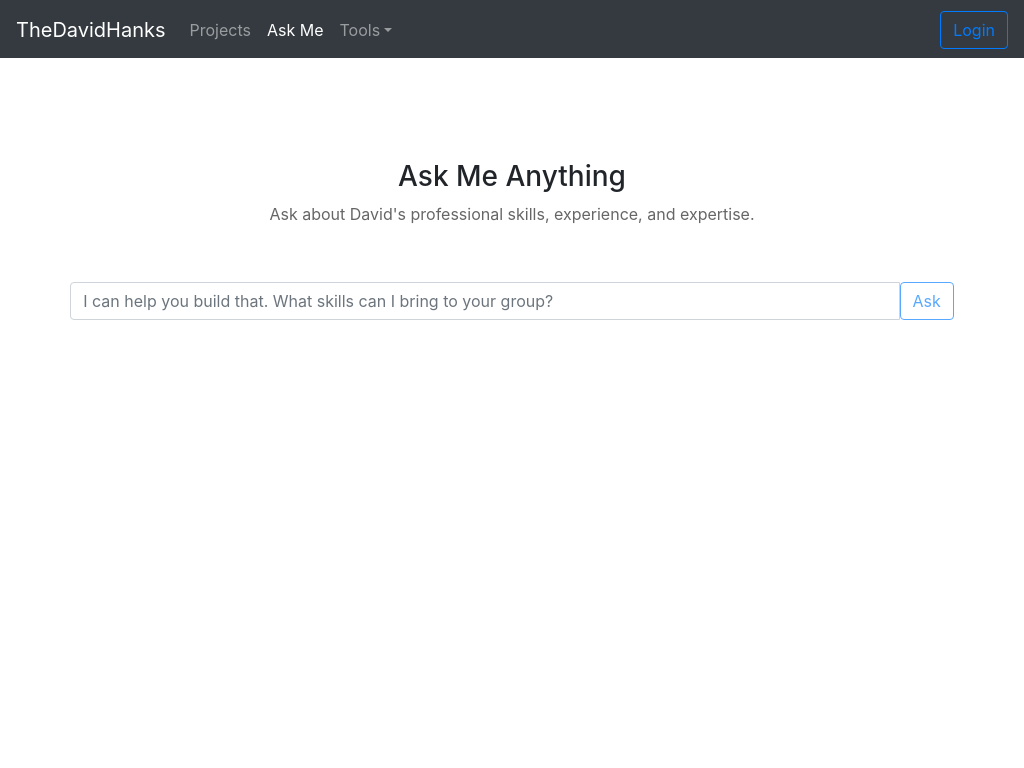
Test: /askme › posts the question and reuses the returned sessionId for follow-ups
Type "What do you build?" into the field at (485, 301), box [70, 282, 900, 320]
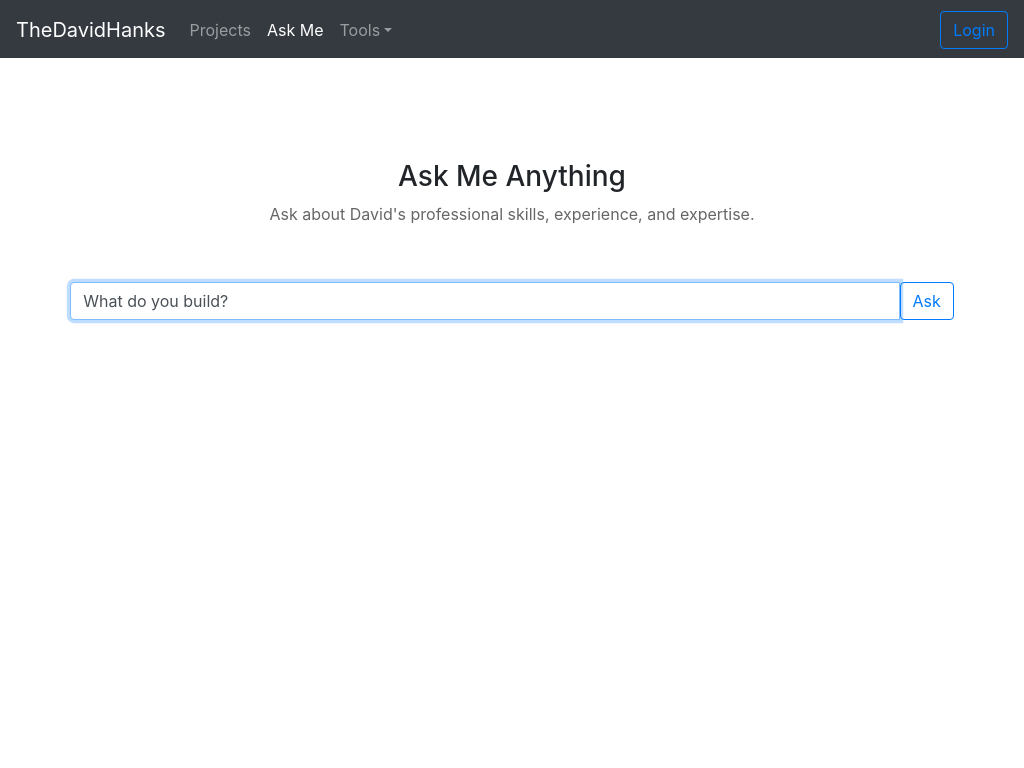
Click the button "Ask" at (927, 301), box [900, 282, 954, 320]
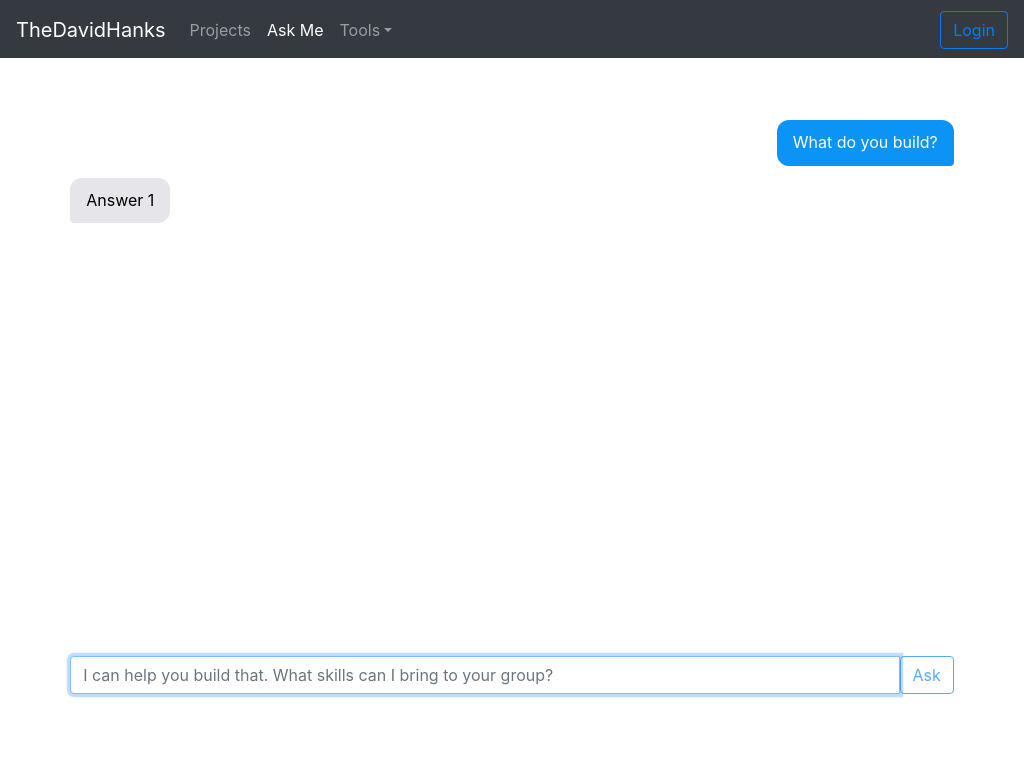
Result: the text "Answer 1" is shown at [70, 178, 170, 223]
Type "Tell me more" into the field at (485, 675), box [70, 656, 900, 694]
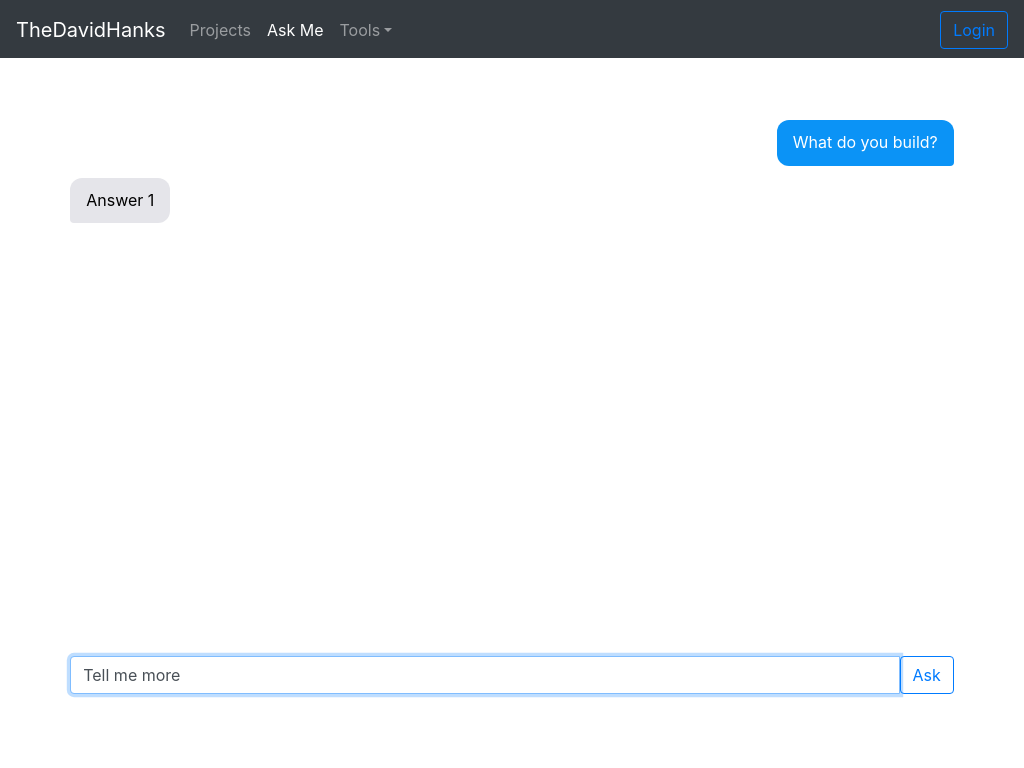
Click the button "Ask" at (927, 675), box [900, 656, 954, 694]
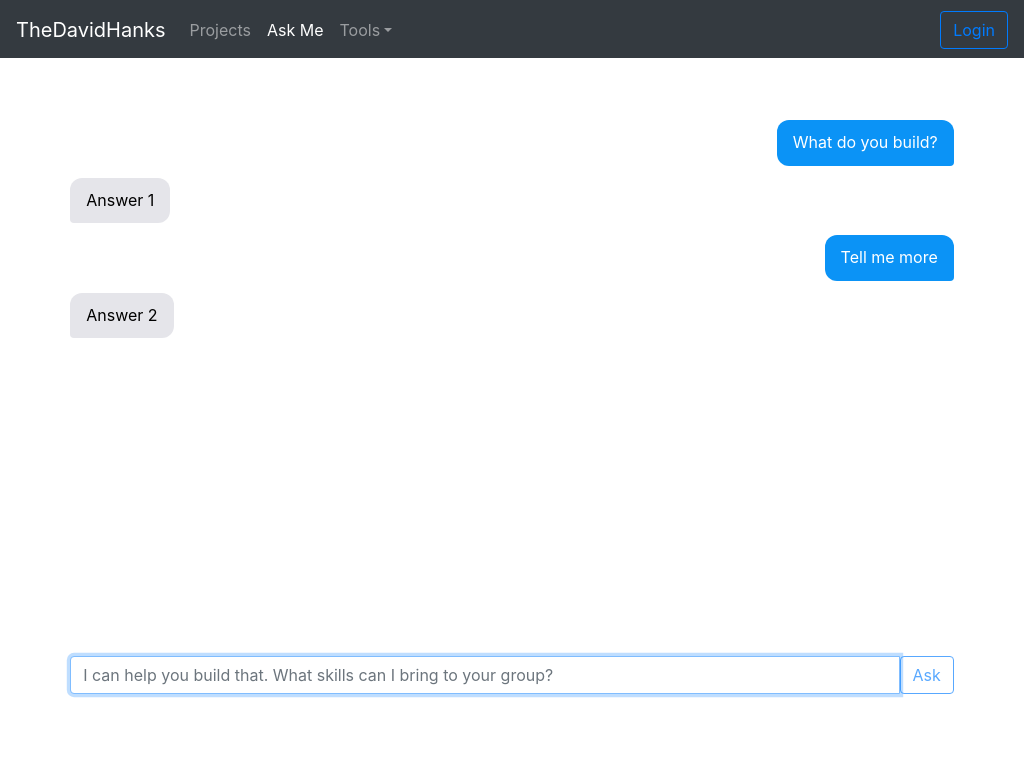
Result: the text "Answer 2" is shown at [70, 293, 174, 338]
